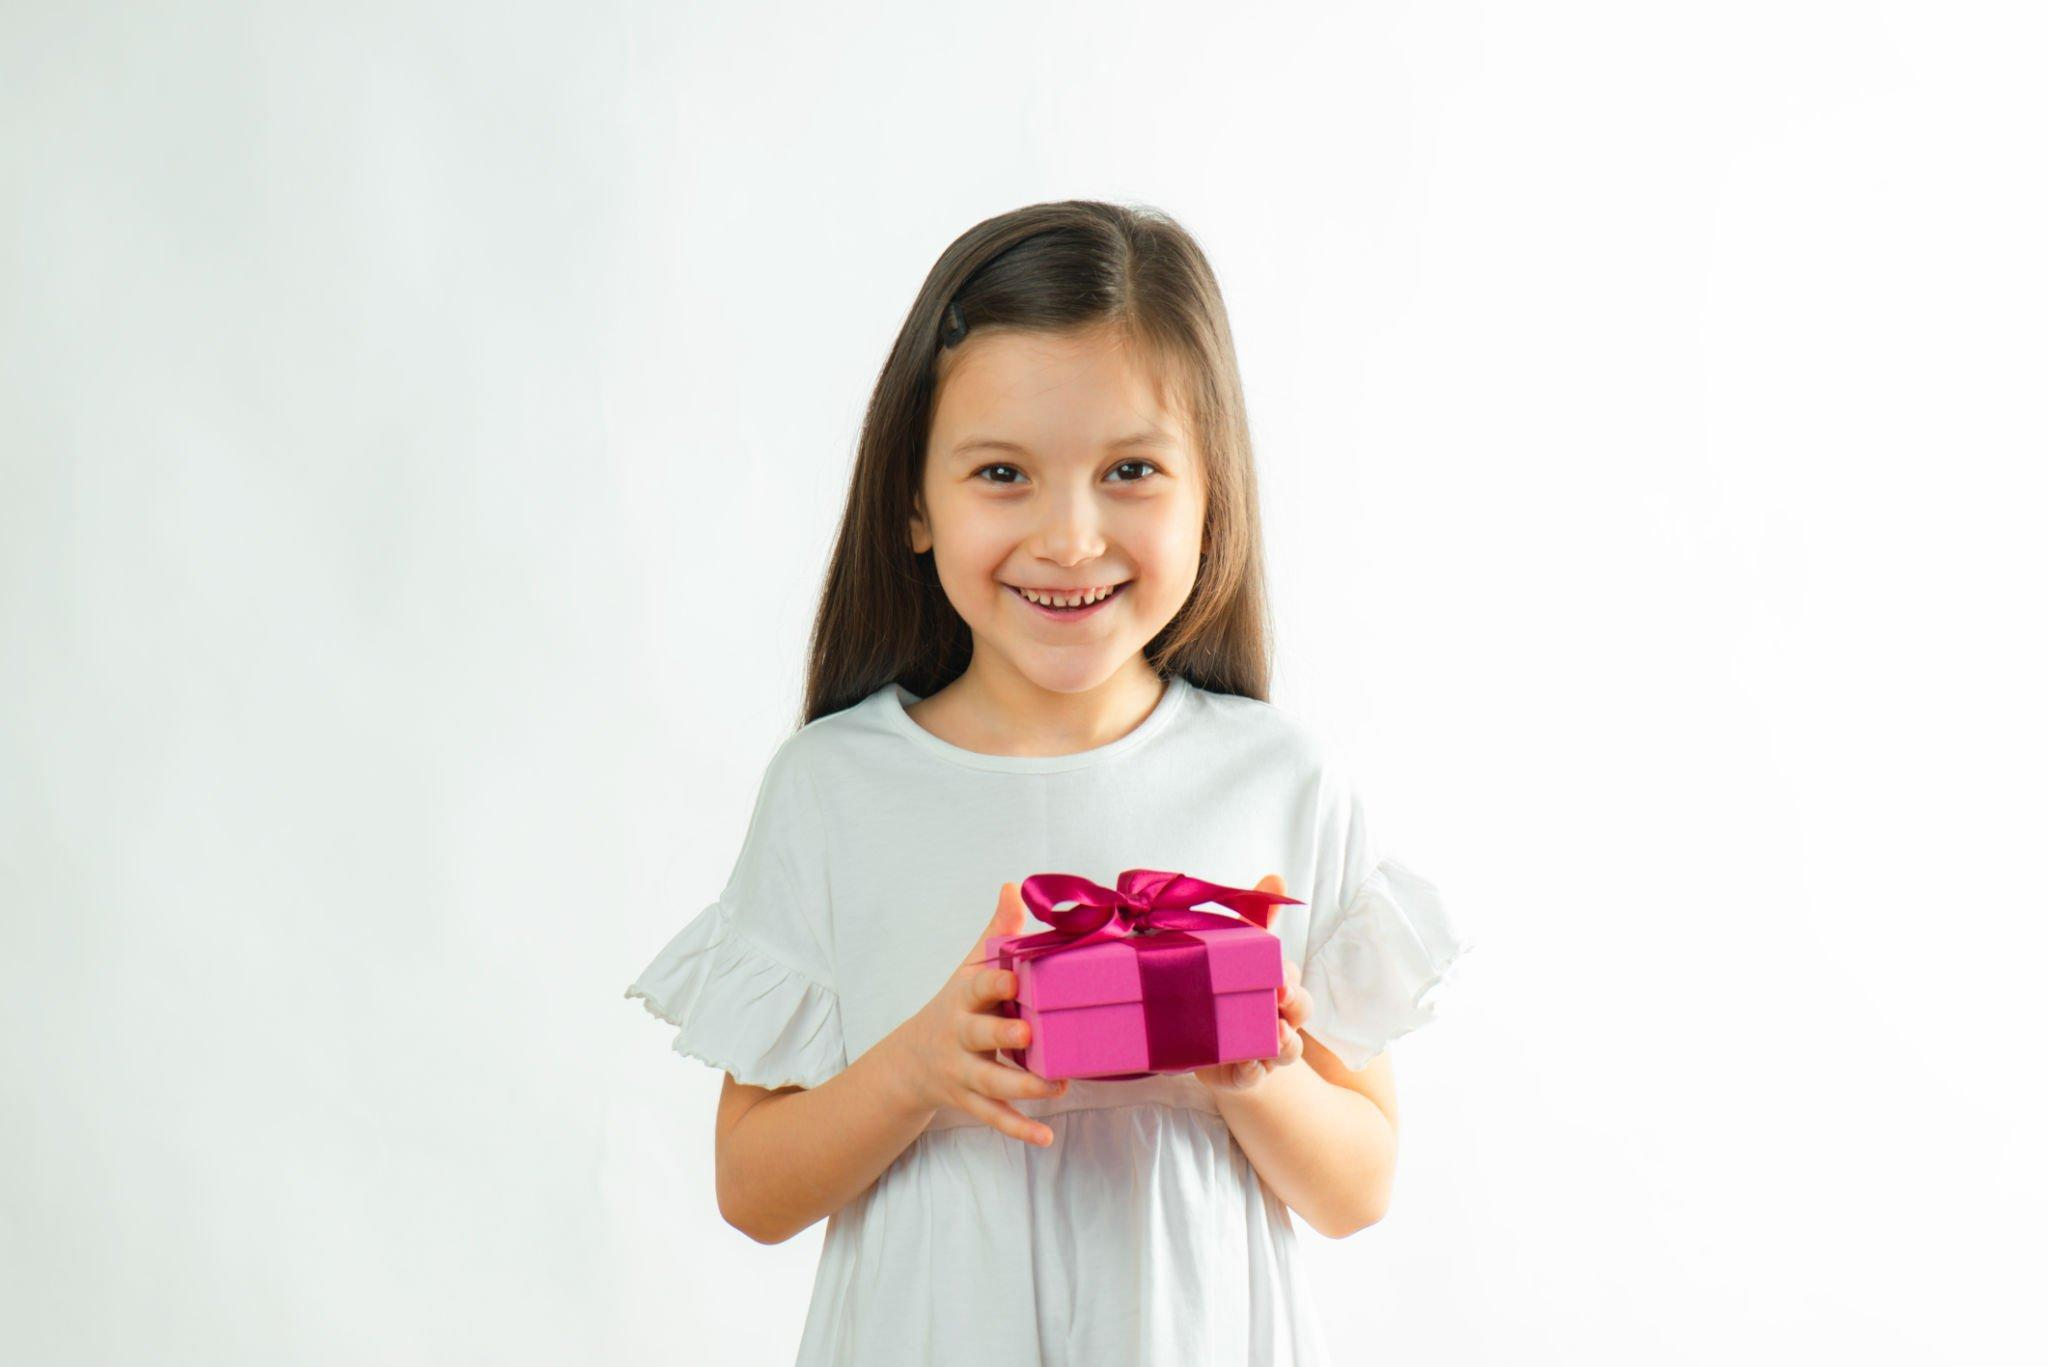Healthy: (897, 241, 1243, 729)
